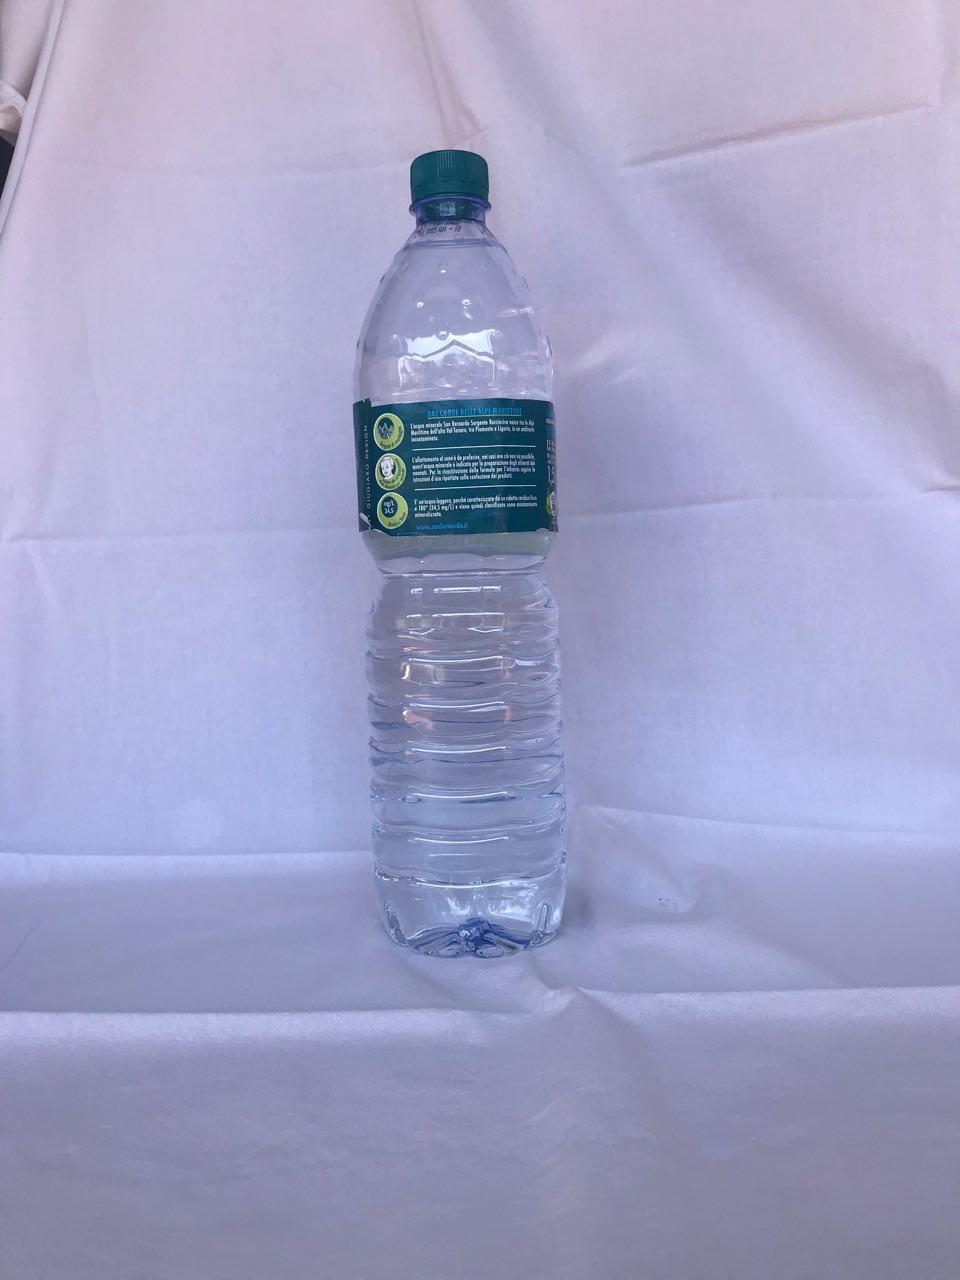san_bernardo: (349, 146, 569, 961)
